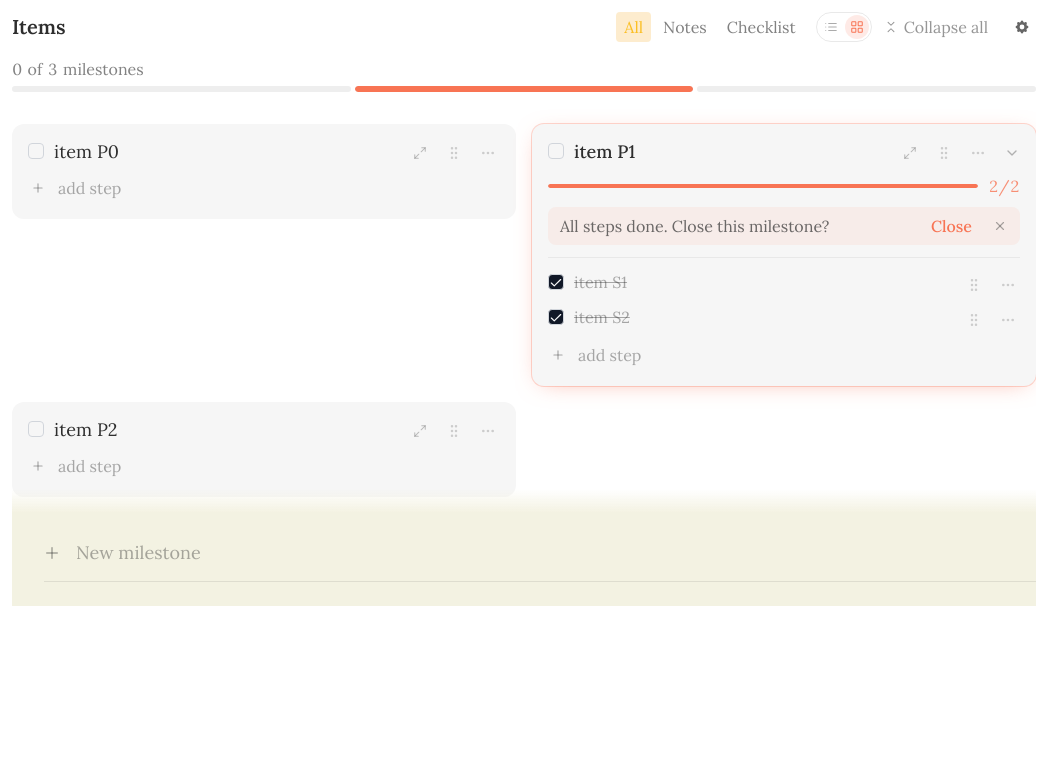
Test: Todo completion nudge › should close the milestone on Close and keep it in place, faded, its segment full
expect the text "item P0" is shown: met, box [54, 140, 119, 163]
expect the text "0 of 3 milestones" is shown: met, box [12, 59, 144, 79]
Click the button with aria-label "Close item P1". click: (951, 226)
box: [923, 213, 980, 239]
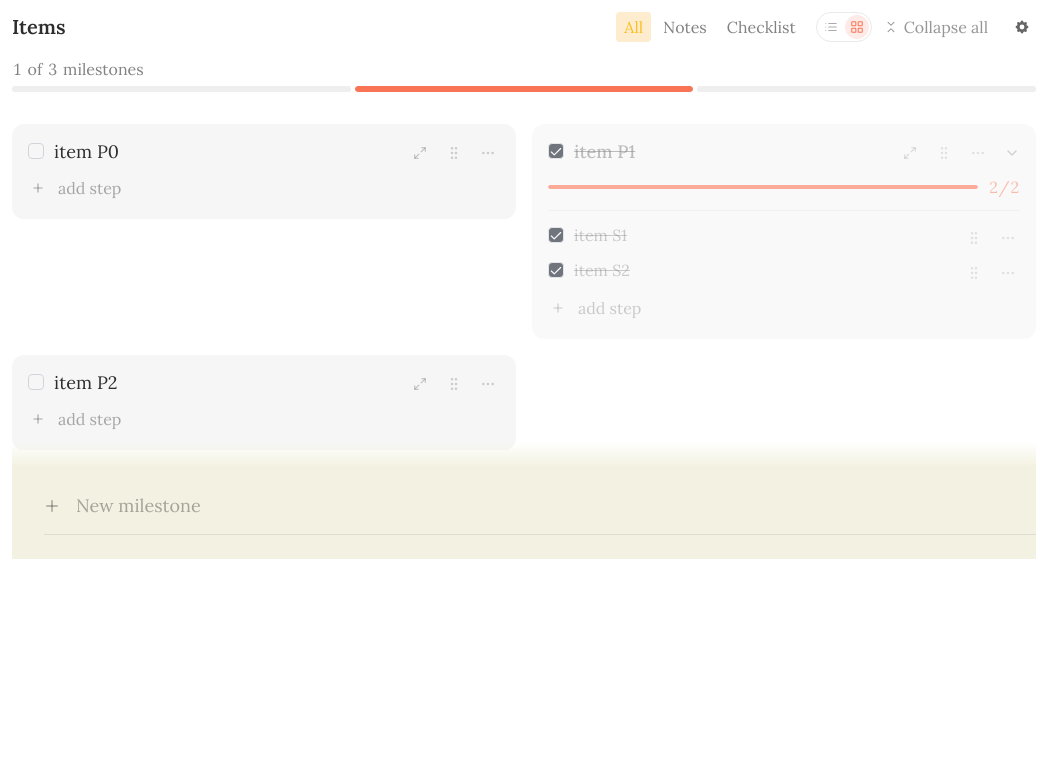
expect the text "1 of 3 milestones" is shown: met, box [12, 59, 144, 79]
